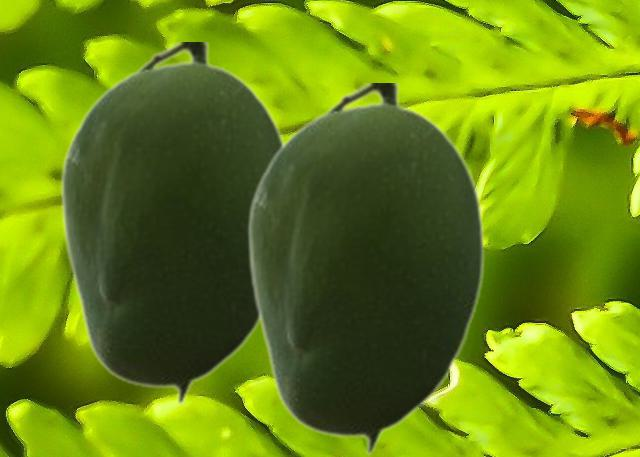green_mango: (245, 83, 484, 455), (58, 42, 285, 405)
